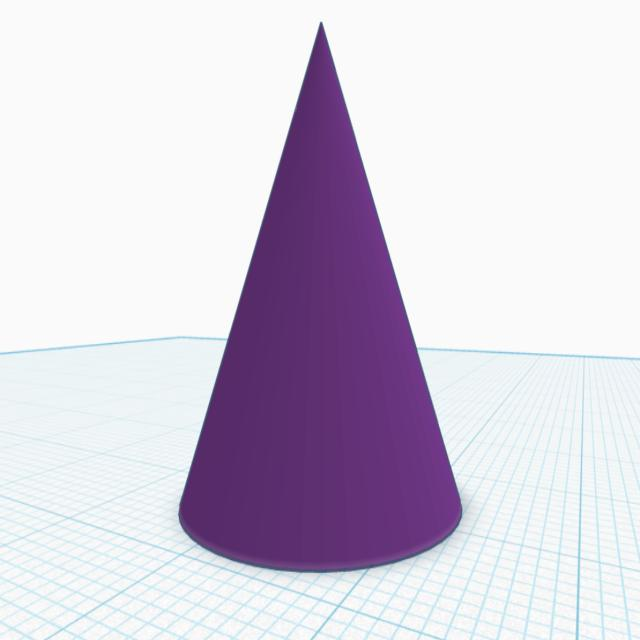cone: (175, 21, 468, 576)
